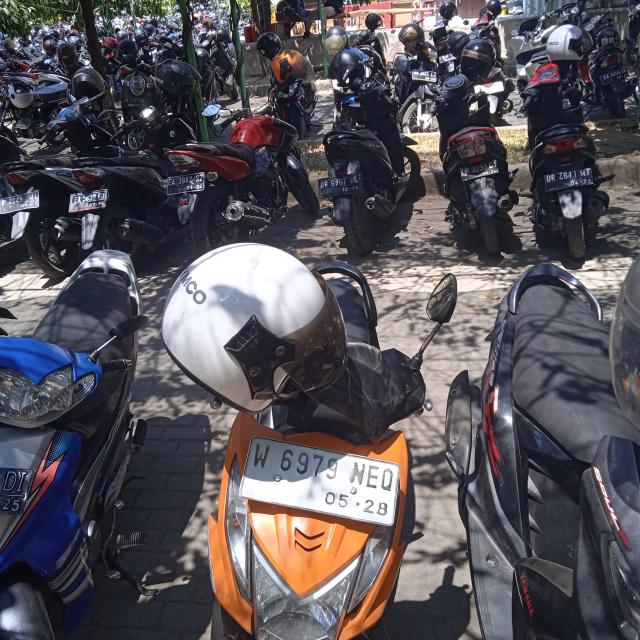plate: (242, 437, 401, 525), (543, 166, 594, 193), (319, 172, 362, 199), (167, 171, 205, 194)
